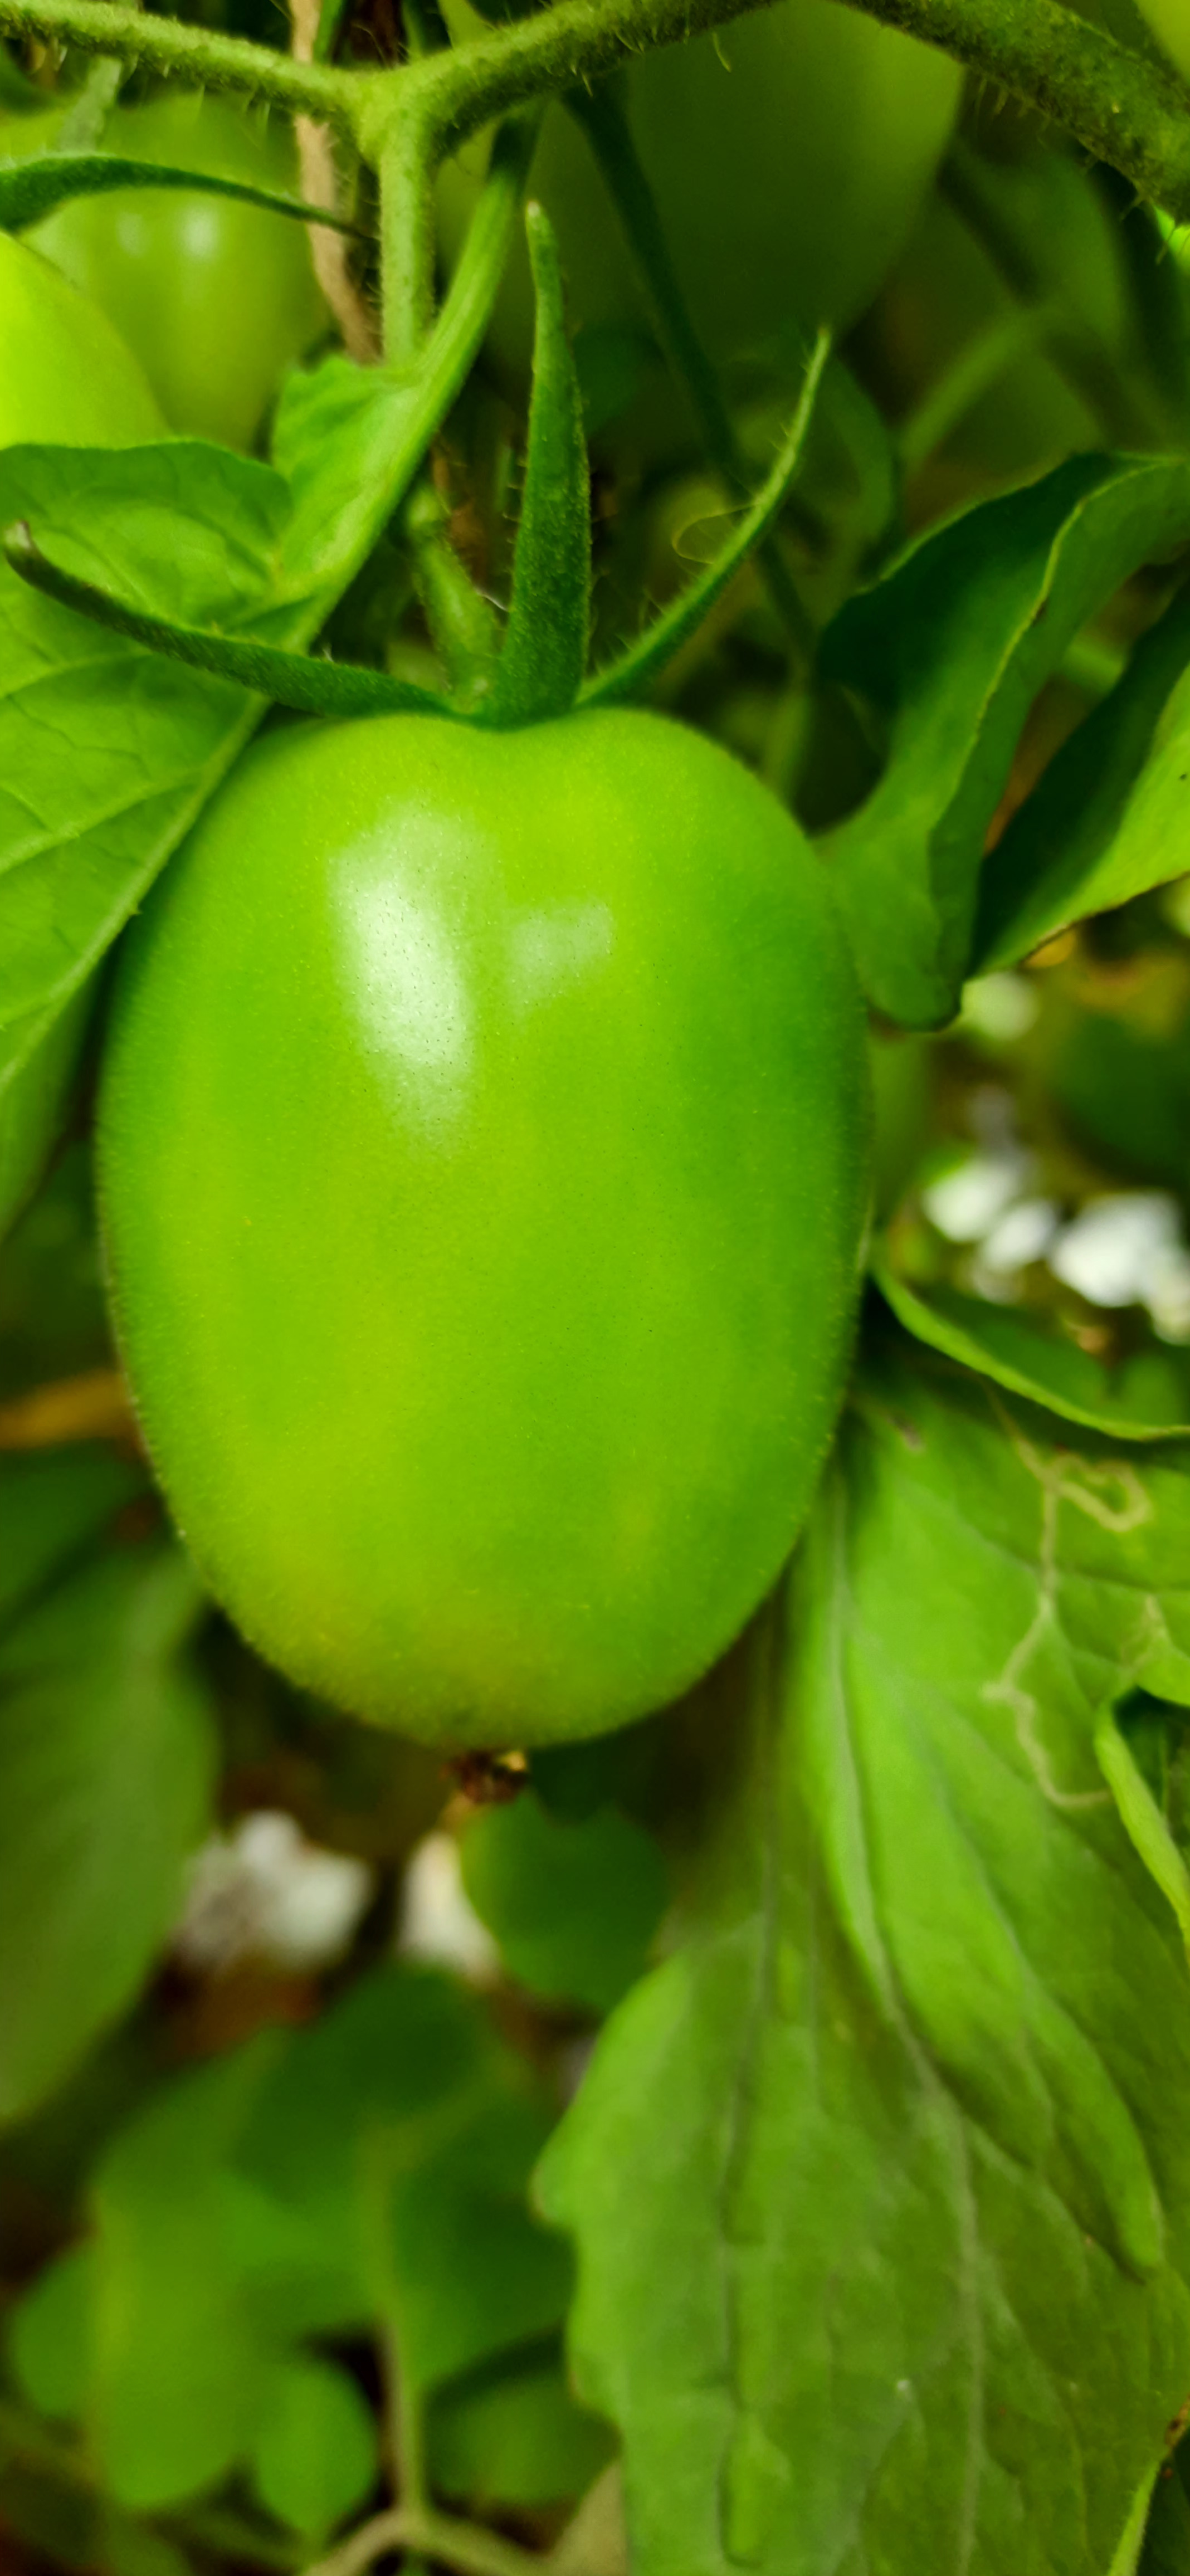raw_tomato: (117, 593, 952, 1825)
